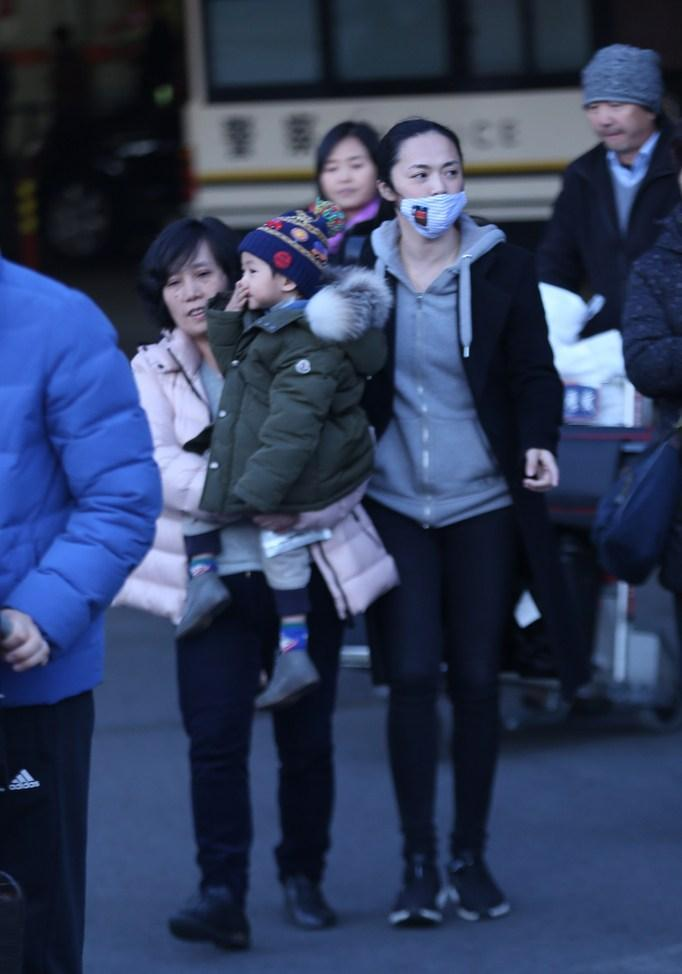NONE: (169, 262, 229, 334), (591, 96, 647, 153), (321, 153, 375, 206), (241, 254, 287, 309)
WRONG: (394, 156, 470, 232)
